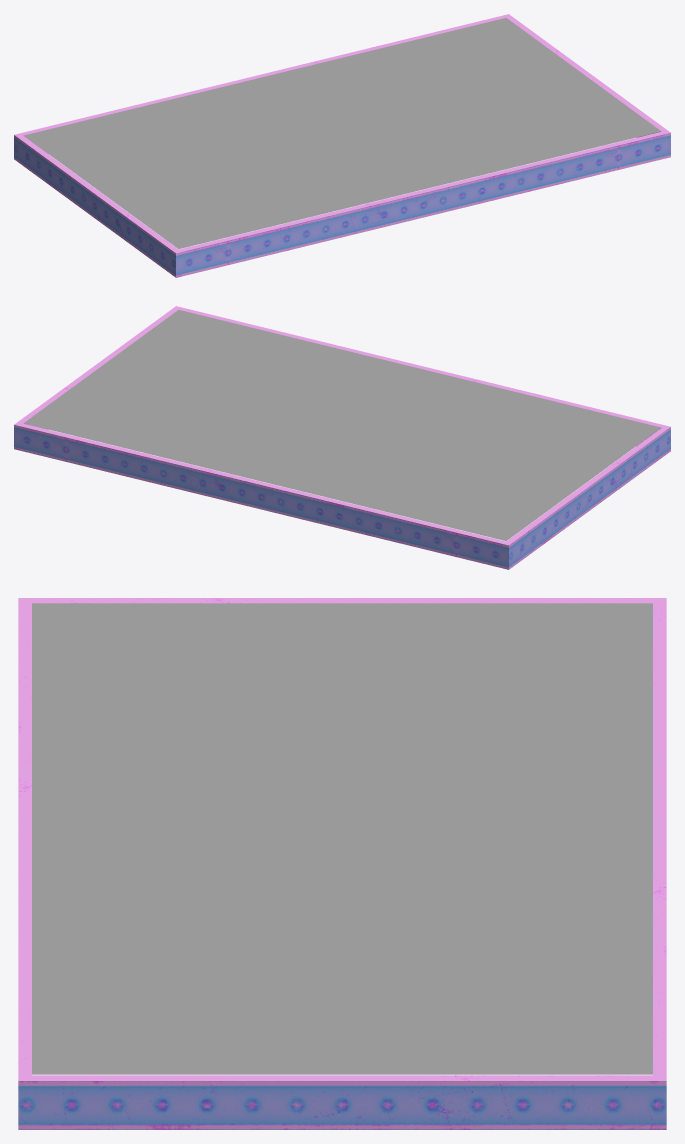
File: SecurityBottom_01_SM_Low.fbx
The picture shows the model from 3 angles, top to bottom: view 1: azimuth 30°, elevation 25°; view 2: azimuth 150°, elevation 25°; view 3: azimuth 270°, elevation 25°; orthographic projection. The views are drawn at different scales.
Visible parts, largest first — view 1: GratedFloor, FloorSide; view 2: GratedFloor, FloorSide; view 3: GratedFloor, FloorSide.
Part boxes in pixels (left/top/right/bottom): GratedFloor: left=23, top=18, right=661, bottom=248; FloorSide: left=14, top=14, right=670, bottom=277; GratedFloor: left=23, top=310, right=661, bottom=540; FloorSide: left=14, top=306, right=670, bottom=569; GratedFloor: left=32, top=603, right=652, bottom=1074; FloorSide: left=18, top=598, right=666, bottom=1129.
Bounding box in the file's own units: 370 × 17.66 × 210.
Materials: 2 (1 with a texture image).
